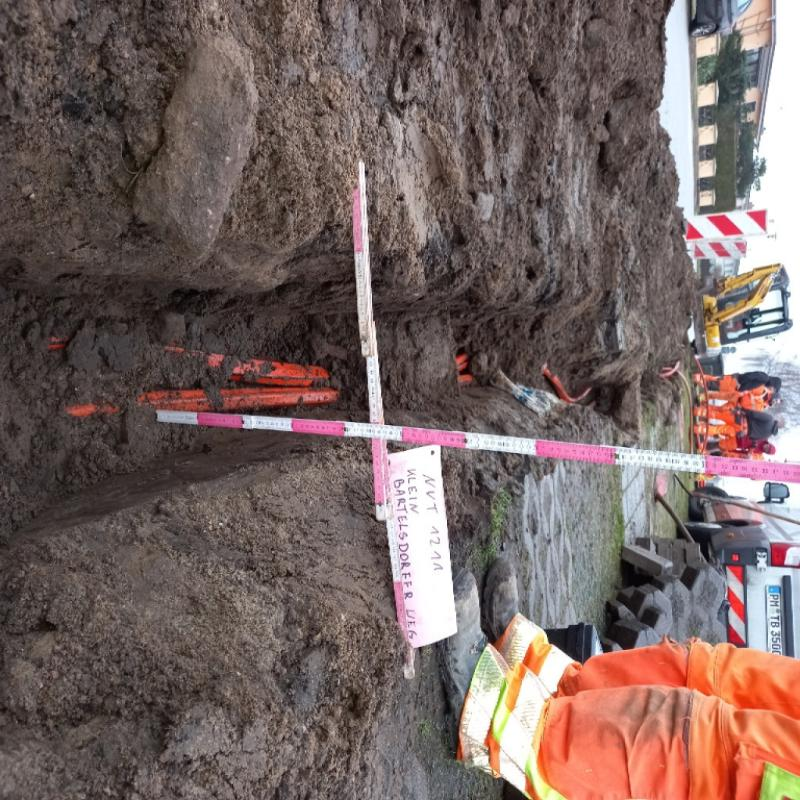Orang-Speednetrohrchen: (143, 360, 342, 411)
